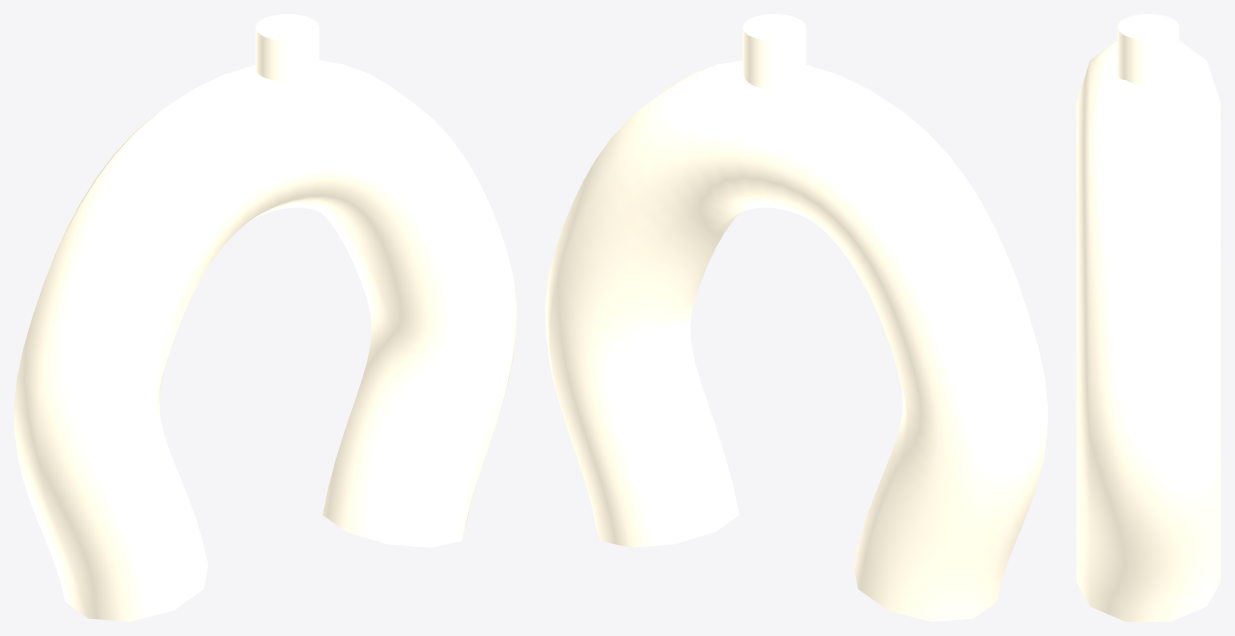
File: ref02_06.glb
3 views of the same model, side by side, from view 1: azimuth 30°, elevation 25°; view 2: azimuth 150°, elevation 25°; view 3: azimuth 270°, elevation 25° (orthographic). The views are drawn at different scales.
Parts seen in each view (by area): view 1: ref02_06; view 2: ref02_06; view 3: ref02_06.
Boxes of the visible parts, x1,y1,x2,y2 form: ref02_06: [14, 14, 516, 621]; ref02_06: [545, 14, 1047, 621]; ref02_06: [1076, 14, 1220, 621].
Size of the model in its own units: 0.4361 by 0.4614 by 0.117.
